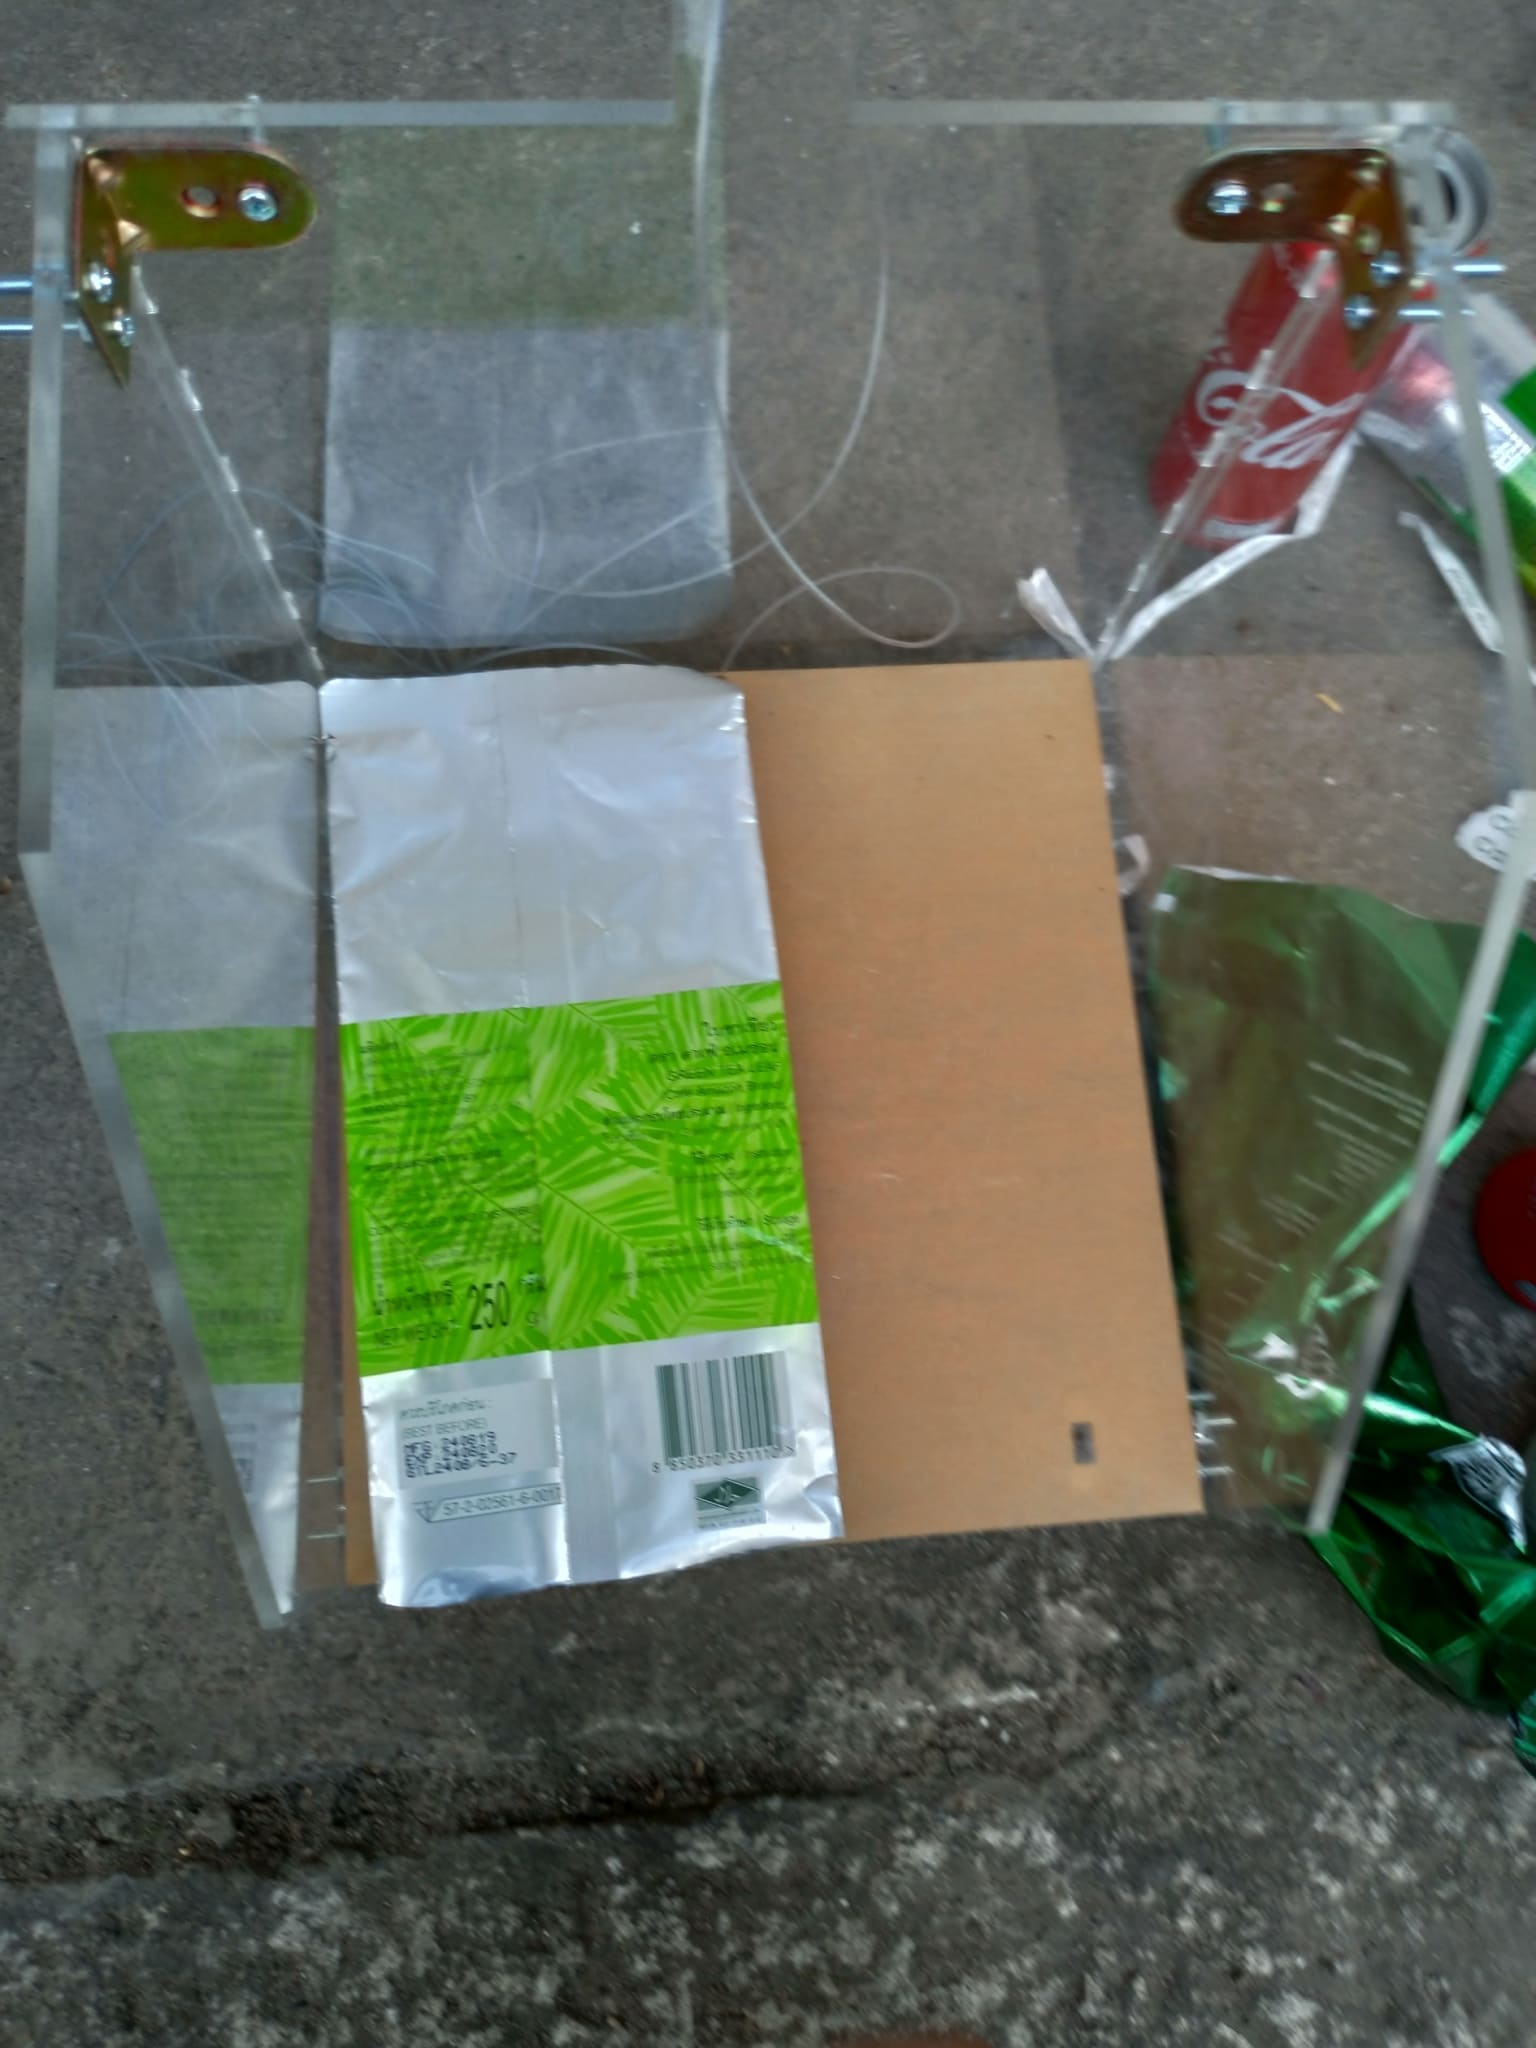AlCan: (1150, 123, 1491, 545)
Others: (310, 668, 844, 1617), (1141, 858, 1534, 1772)
